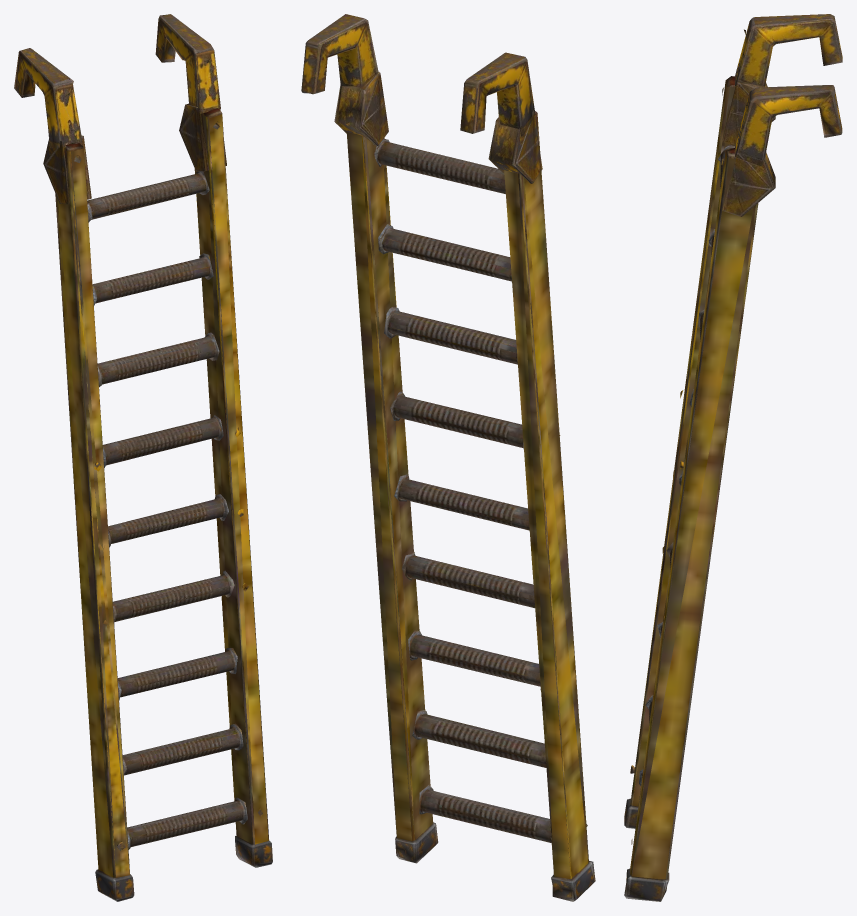
The model's file is escape_ladder_prop.glb.
3 views of the same model, side by side, from view 1: azimuth 30°, elevation 25°; view 2: azimuth 150°, elevation 25°; view 3: azimuth 270°, elevation 25° (orthographic). The views are drawn at different scales.
Visible parts, largest first — view 1: Meshy_AI_escape_ladder_prop_3d_20261028_texture; view 2: Meshy_AI_escape_ladder_prop_3d_20261028_texture; view 3: Meshy_AI_escape_ladder_prop_3d_20261028_texture.
Boxes of the visible parts, x1,y1,x2,y2 form: Meshy_AI_escape_ladder_prop_3d_20261028_texture: (14, 14, 272, 901); Meshy_AI_escape_ladder_prop_3d_20261028_texture: (301, 14, 595, 901); Meshy_AI_escape_ladder_prop_3d_20261028_texture: (624, 14, 842, 901).
Size of the model in its own units: 0.7309 by 3.4 by 0.8301.
1 material, 1 textured.
